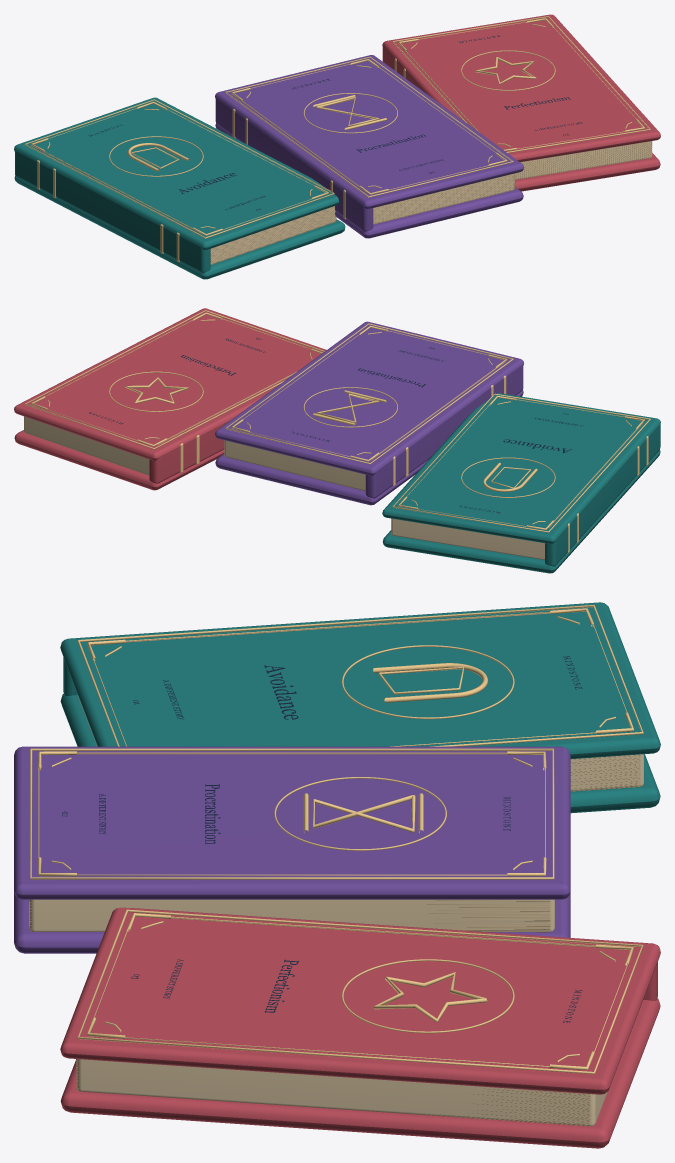
File: story-library.glb
The picture shows the model from 3 angles, top to bottom: view 1: azimuth 30°, elevation 25°; view 2: azimuth 150°, elevation 25°; view 3: azimuth 270°, elevation 25°; orthographic projection. The views are drawn at different scales.
Visible parts, largest first — view 1: avoidance_Library_Teal cloth.007, procrastination_Library_Plum cloth.007, perfectionism_Library_Coral cloth.007, avoidance_Library_Foil.007, procrastination_Library_Foil.007, perfectionism_Library_Foil.007, procrastination_Library_Paper.007, procrastination_Library_Edges.007, perfectionism_Library_Paper.007, avoidance_Library_Edges.007, avoidance_Library_Paper.007, perfectionism_Library_Edges.007; view 2: avoidance_Library_Teal cloth.007, procrastination_Library_Plum cloth.007, perfectionism_Library_Coral cloth.007, procrastination_Library_Foil.007, avoidance_Library_Foil.007, perfectionism_Library_Foil.007, avoidance_Library_Paper.007, procrastination_Library_Paper.007, perfectionism_Library_Paper.007; view 3: perfectionism_Library_Coral cloth.007, procrastination_Library_Plum cloth.007, avoidance_Library_Teal cloth.007, perfectionism_Library_Paper.007, procrastination_Library_Paper.007, procrastination_Library_Foil.007, perfectionism_Library_Foil.007, avoidance_Library_Foil.007, procrastination_Library_Edges.007, avoidance_Library_Paper.007, perfectionism_Library_Edges.007, avoidance_Library_Edges.007 (+2 smaller).
Boxes of the visible parts, x1,y1,x2,y2 form: avoidance_Library_Teal cloth.007: (14,97,345,279); procrastination_Library_Plum cloth.007: (215,55,523,238); perfectionism_Library_Coral cloth.007: (382,14,660,191); avoidance_Library_Foil.007: (24,99,334,262); procrastination_Library_Foil.007: (225,56,513,219); perfectionism_Library_Foil.007: (392,16,650,152); procrastination_Library_Paper.007: (373,173,514,224); procrastination_Library_Edges.007: (234,95,515,224); perfectionism_Library_Paper.007: (515,141,651,179); avoidance_Library_Edges.007: (34,147,336,264); avoidance_Library_Paper.007: (210,206,335,264); perfectionism_Library_Edges.007: (400,45,652,179); avoidance_Library_Teal cloth.007: (382,393,660,573); procrastination_Library_Plum cloth.007: (215,321,523,505); perfectionism_Library_Coral cloth.007: (14,308,326,490); procrastination_Library_Foil.007: (225,323,513,486); avoidance_Library_Foil.007: (392,393,650,552); perfectionism_Library_Foil.007: (24,310,324,472); avoidance_Library_Paper.007: (391,518,544,559); procrastination_Library_Paper.007: (224,440,365,490); perfectionism_Library_Paper.007: (24,416,149,475); perfectionism_Library_Coral cloth.007: (60,907,660,1148); procrastination_Library_Plum cloth.007: (14,746,570,953); avoidance_Library_Teal cloth.007: (60,602,660,813); perfectionism_Library_Paper.007: (77,1059,607,1126); procrastination_Library_Paper.007: (29,899,554,931); procrastination_Library_Foil.007: (30,748,554,879); perfectionism_Library_Foil.007: (77,909,643,1074); avoidance_Library_Foil.007: (77,605,643,746); procrastination_Library_Edges.007: (29,753,550,932); avoidance_Library_Paper.007: (570,754,643,791); perfectionism_Library_Edges.007: (76,917,595,1126); avoidance_Library_Edges.007: (77,613,640,791).
Bounding box in the file's own units: 3.67 × 0.353 × 2.08.
